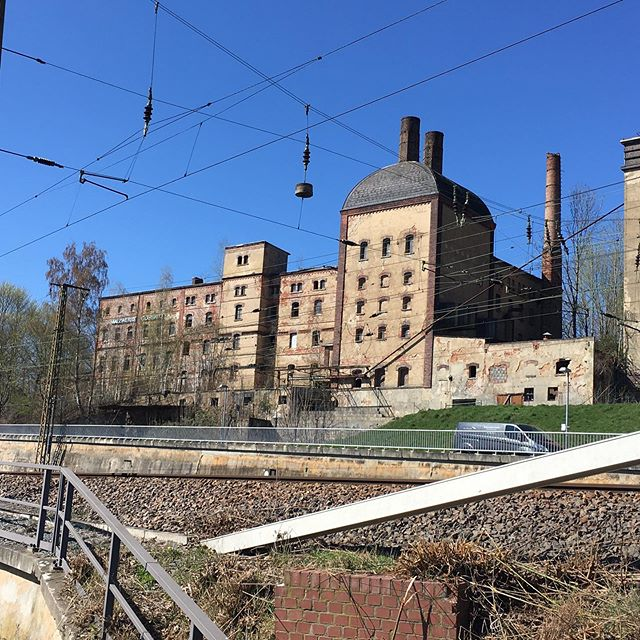building: (73, 125, 610, 402)
sky: (9, 1, 624, 239)
van: (442, 415, 558, 467)
